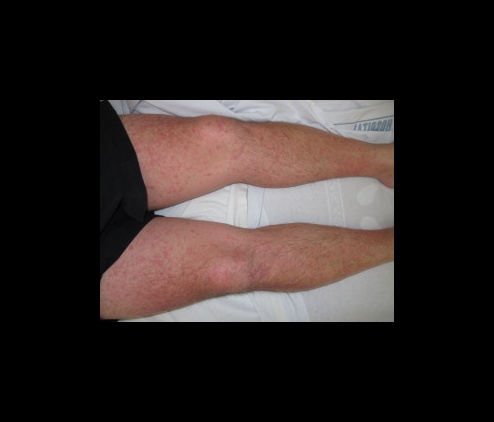SJS-TEN: (113, 204, 375, 321), (139, 108, 375, 197)
